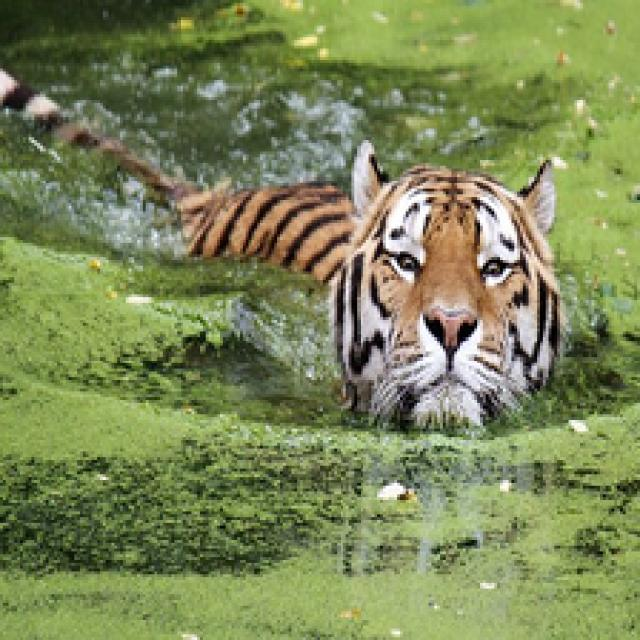tiger: (0, 68, 625, 427)
